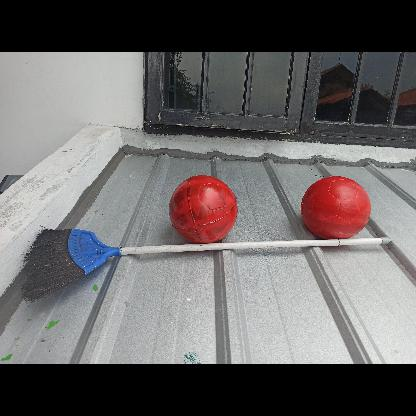red_ball: (170, 174, 240, 244), (303, 172, 373, 242)
